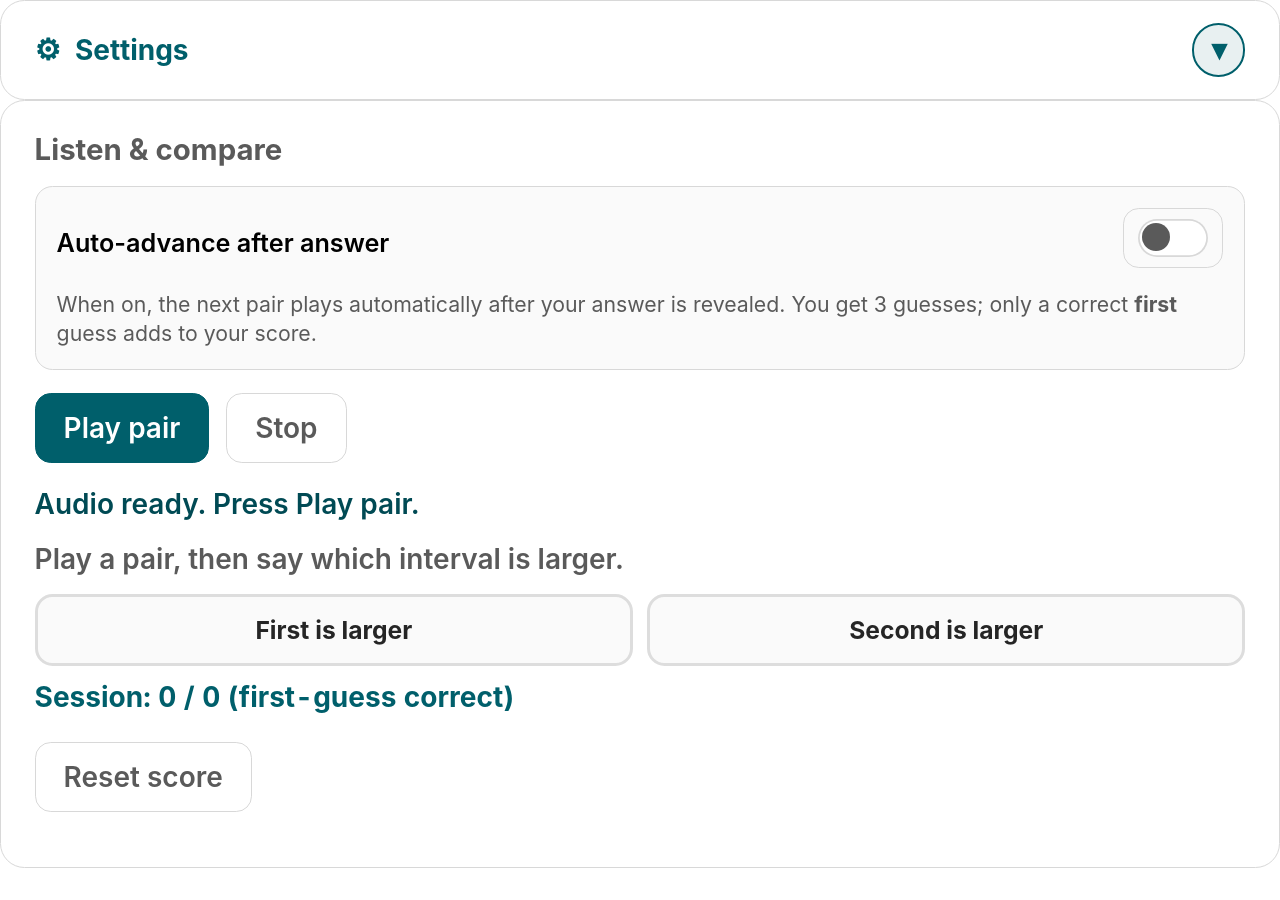
Scenario: IntervalComparisonTopic — first-guess scoring (docs/05-topics/08 §7) › counts a wrong-then-right answer as total+1, correct+0 (only first guess scores)
What coordinates should you click on to do the following:
click the button "Play pair"
I would click on:
 (122, 428)
Its box is [35,393,209,463].
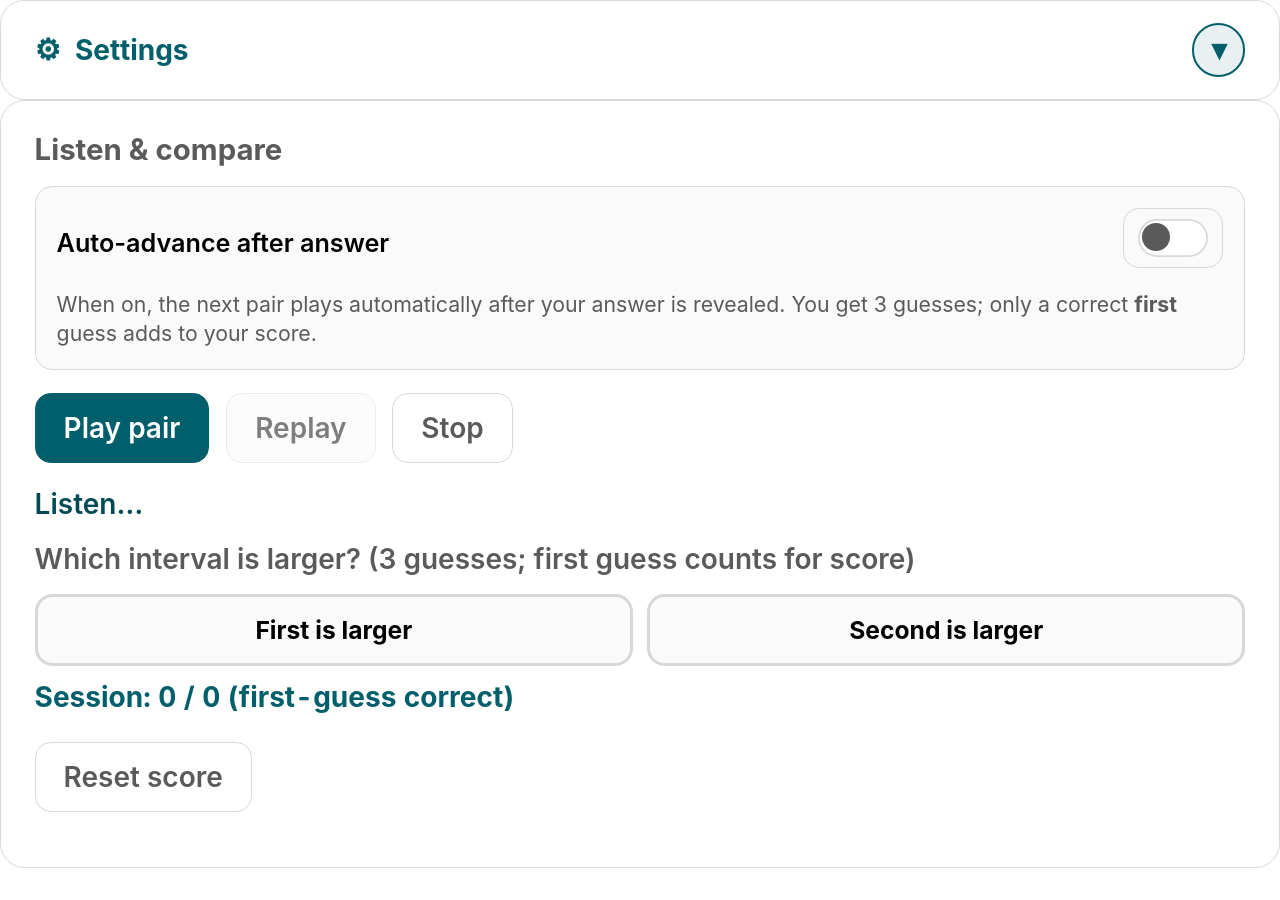
What coordinates should you click on to do the following:
click the button "First is larger"
I would click on:
 (334, 630)
Its box is [35,594,633,666].
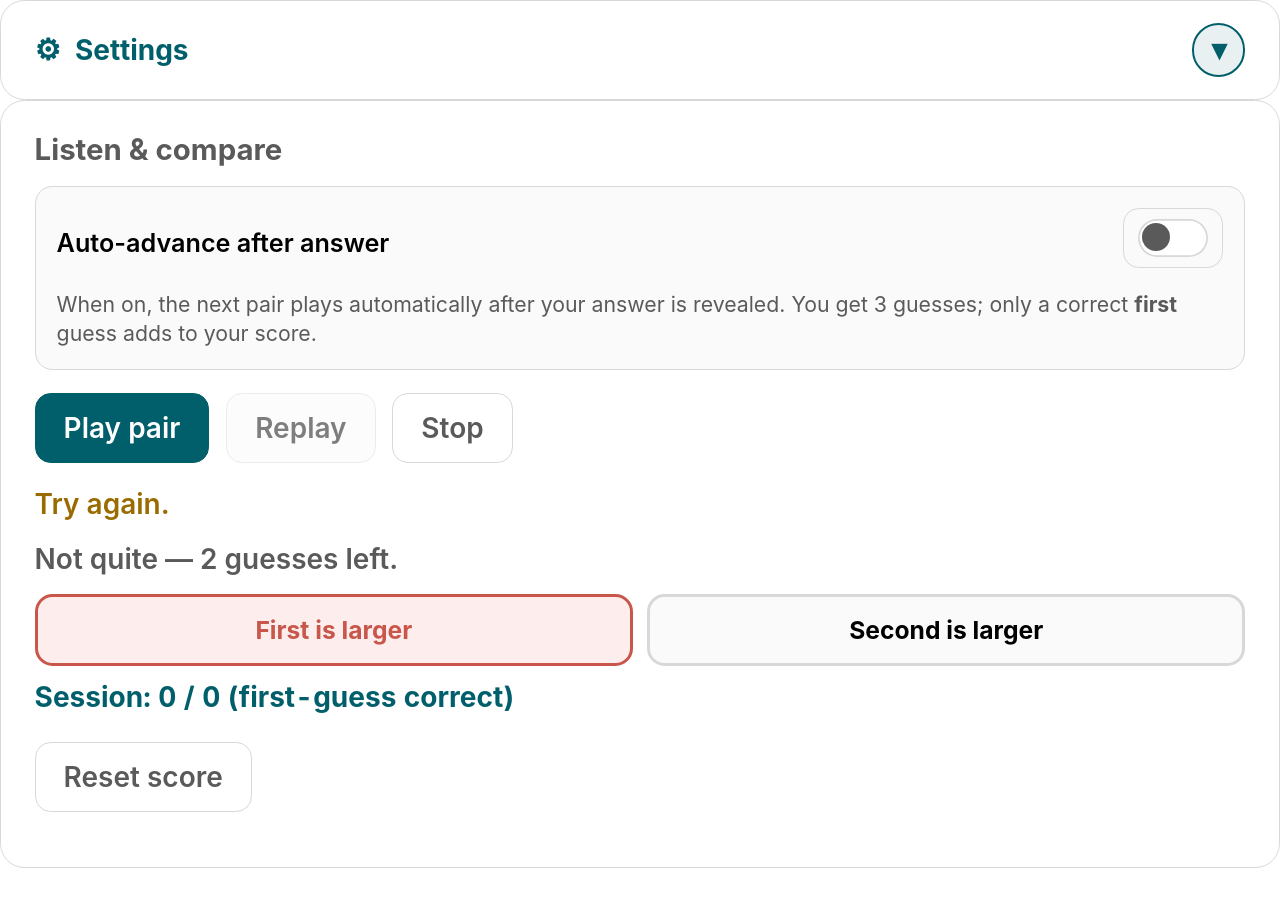
What coordinates should you click on to do the following:
click the button "Second is larger"
I would click on:
 (946, 630)
Its box is [647,594,1245,666].
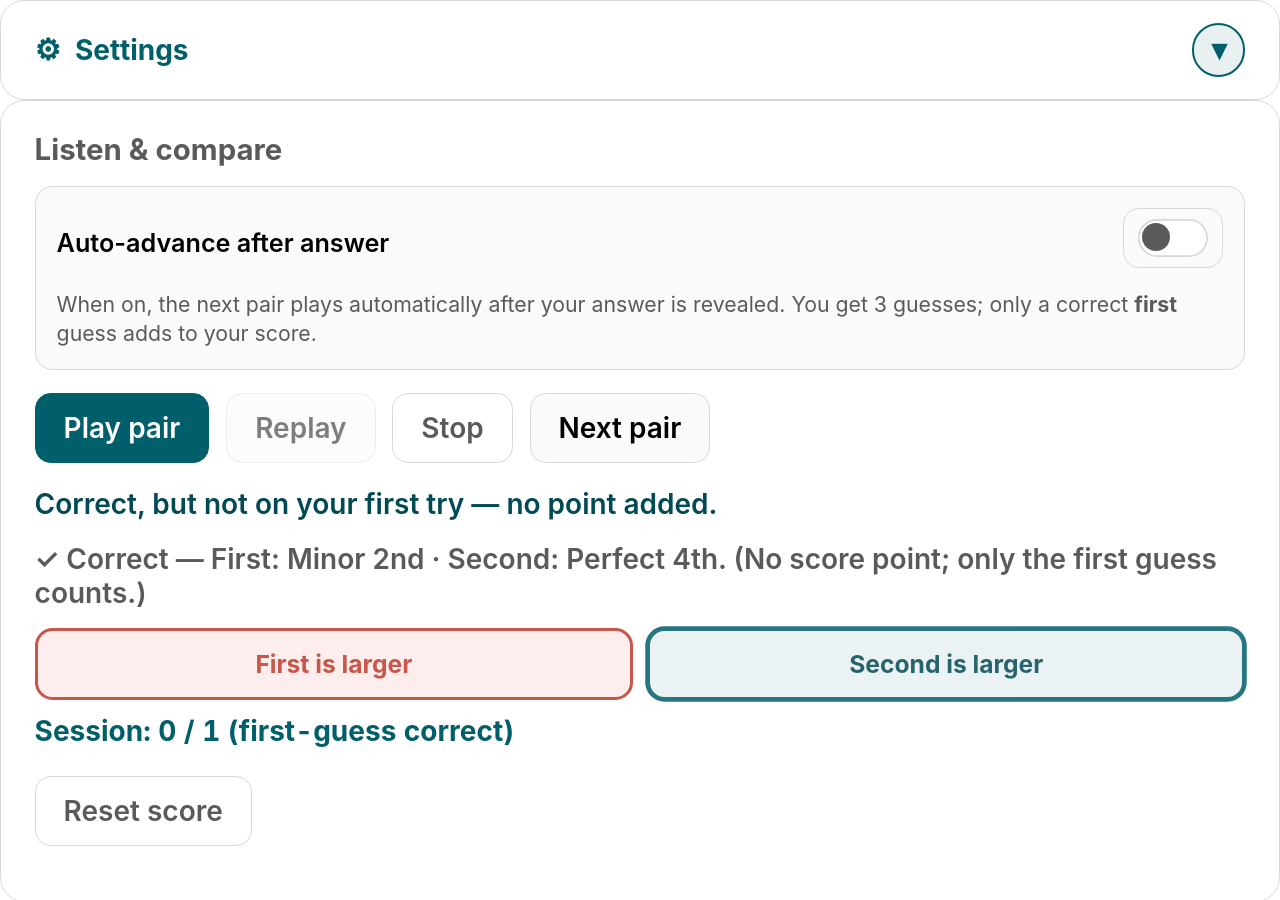
Result: the text "Session: 0 / 1 (first-guess correct)" is shown at [35,714,514,748]
